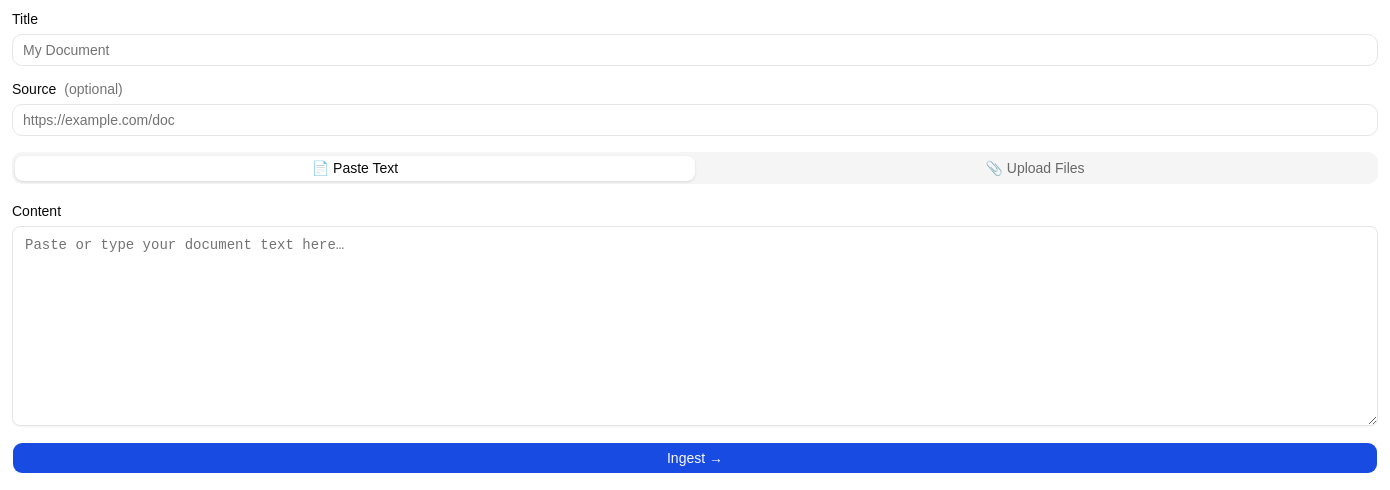
Test: IngestDocumentForm — tab switching › switches to file mode on clicking Upload Files tab
The width and height of the screenshot is (1390, 490).
Click the tab "📎 Upload Files" at [1035, 168], box [695, 156, 1375, 180]
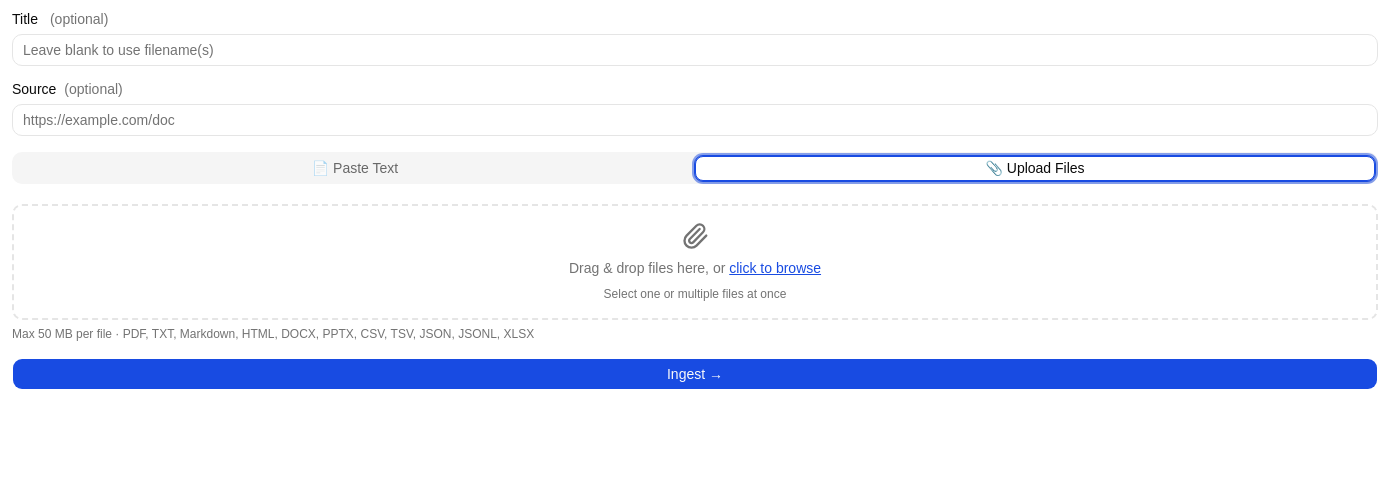
Expected: the button with aria-label "upload documents" is shown, [12, 204, 1378, 320]
